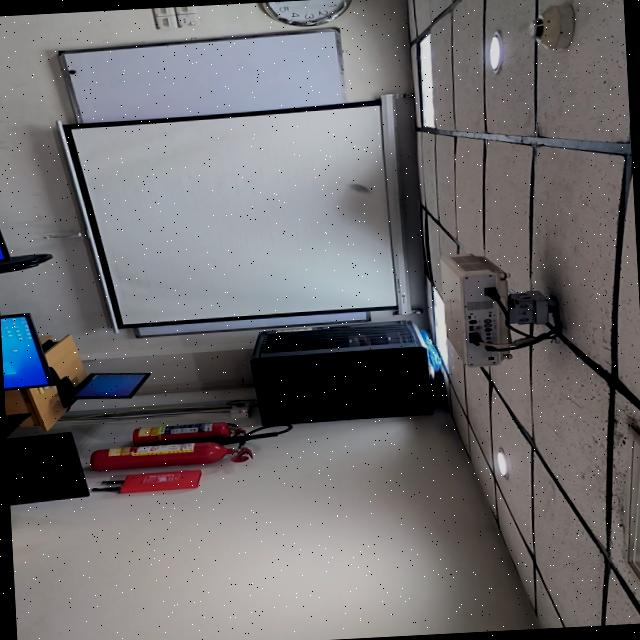Chair: (0, 256, 57, 281)
Fire Extinguisher: (87, 440, 260, 476), (136, 421, 293, 445)
Light: (414, 34, 439, 130), (426, 286, 449, 372), (484, 31, 510, 78), (491, 447, 513, 478)
Monitor: (5, 432, 89, 508), (0, 310, 54, 389), (64, 368, 155, 404), (0, 174, 9, 261)
Projector: (436, 248, 560, 370)
